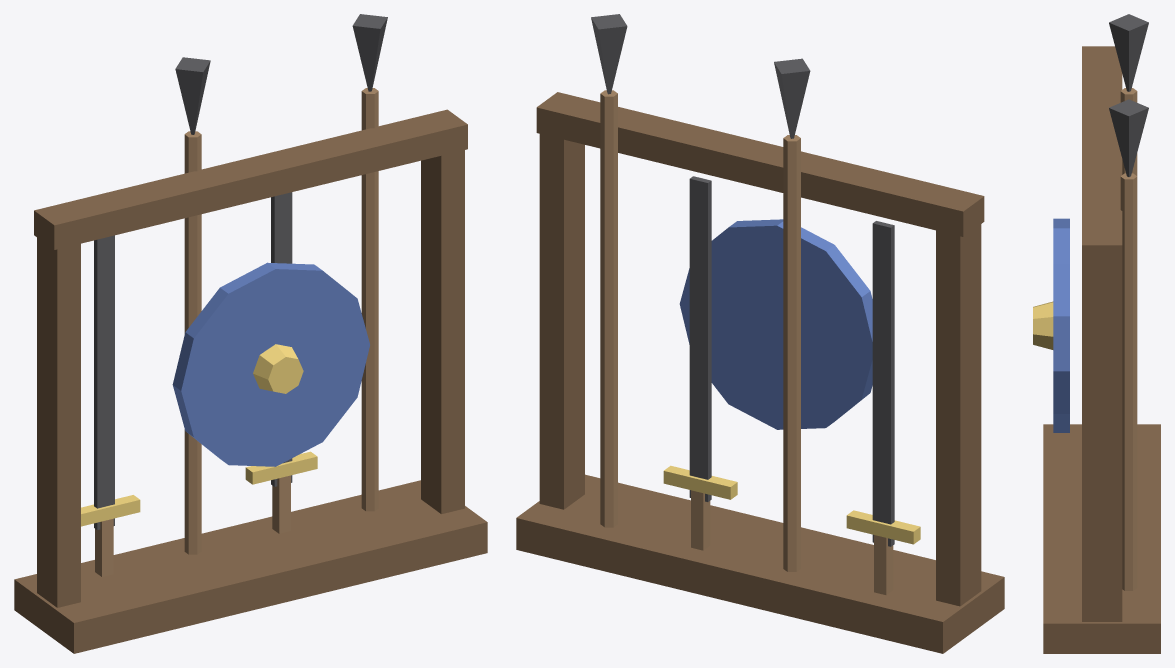
The model's file is Weapon_Rack.glb.
3 views of the same model, side by side, from view 1: azimuth 30°, elevation 25°; view 2: azimuth 150°, elevation 25°; view 3: azimuth 270°, elevation 25° (orthographic). The views are drawn at different scales.
Parts seen in each view (by area): view 1: Weapon_Rack; view 2: Weapon_Rack; view 3: Weapon_Rack.
Part boxes in pixels (x1,y1,x2,y2): Weapon_Rack: (14, 14, 487, 653); Weapon_Rack: (516, 14, 1004, 653); Weapon_Rack: (1033, 14, 1160, 653).
Size of the model in its own units: 1.4 by 1.68 by 0.38.
